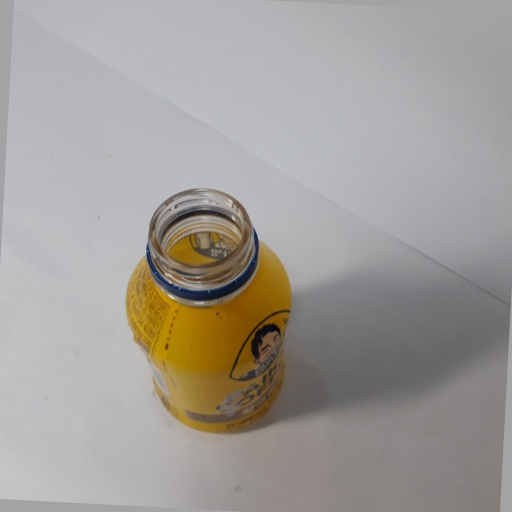Plastic_0: (124, 187, 298, 437)
